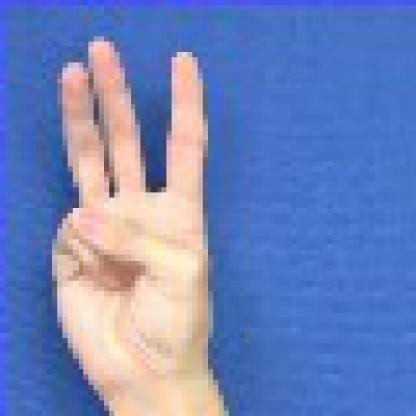three: (45, 28, 226, 406)
